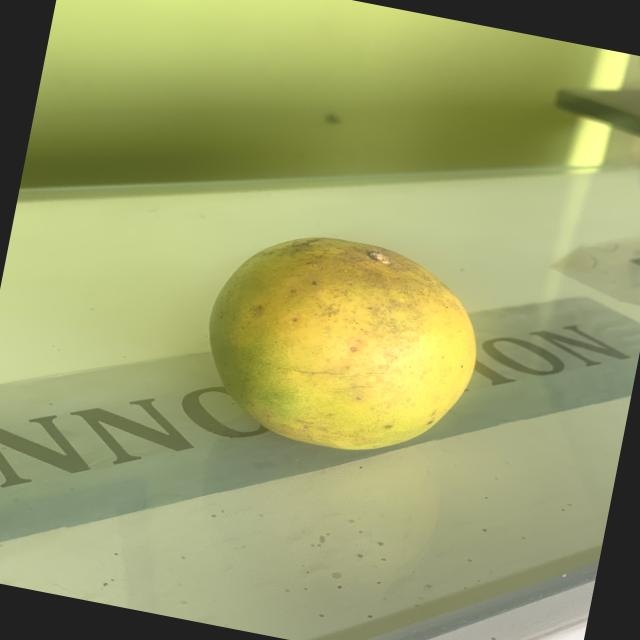agrume: (187, 209, 503, 479)
